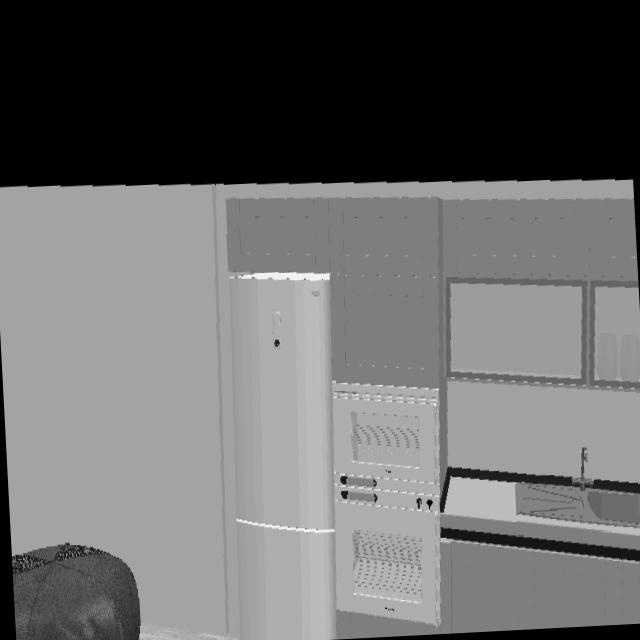countertop: (448, 482, 517, 521)
fridge: (230, 275, 338, 640)
microwave: (333, 385, 439, 484)
oven: (335, 503, 442, 623)
sink: (516, 477, 640, 531)
